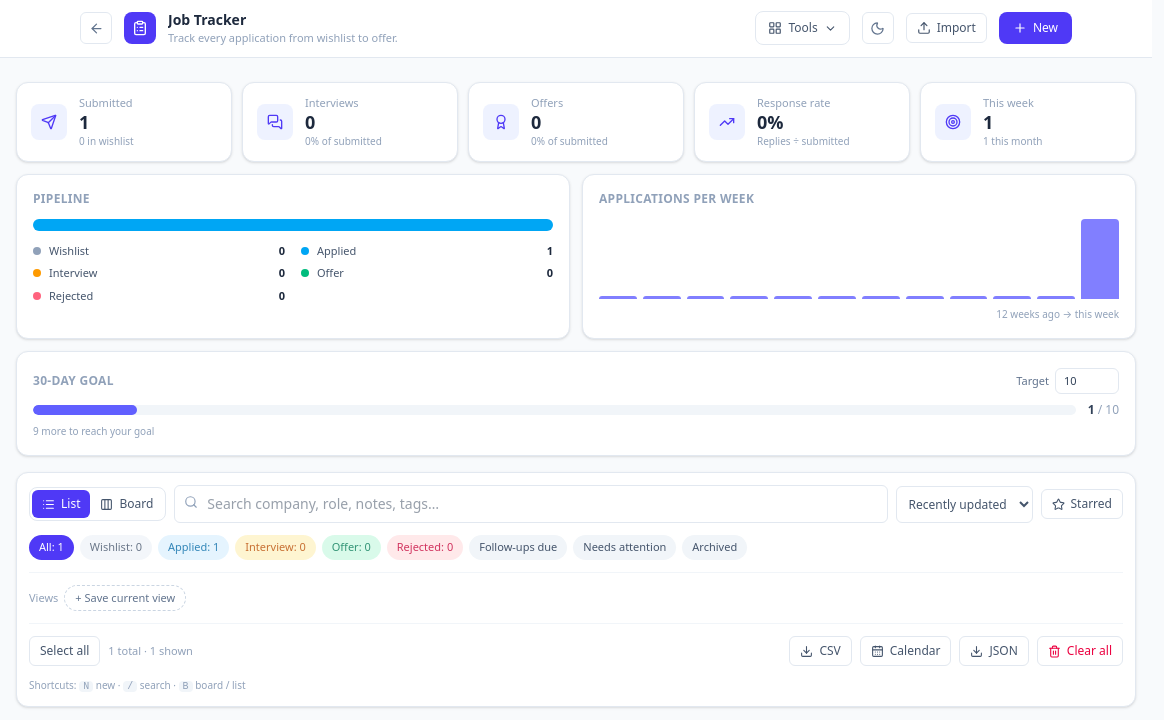
Test case: JobTrackerApp › switches to the board view
This screenshot has width=1164, height=720.
Click the button "board". click: [127, 504]
box: [90,490,163,518]
(page scrolled)
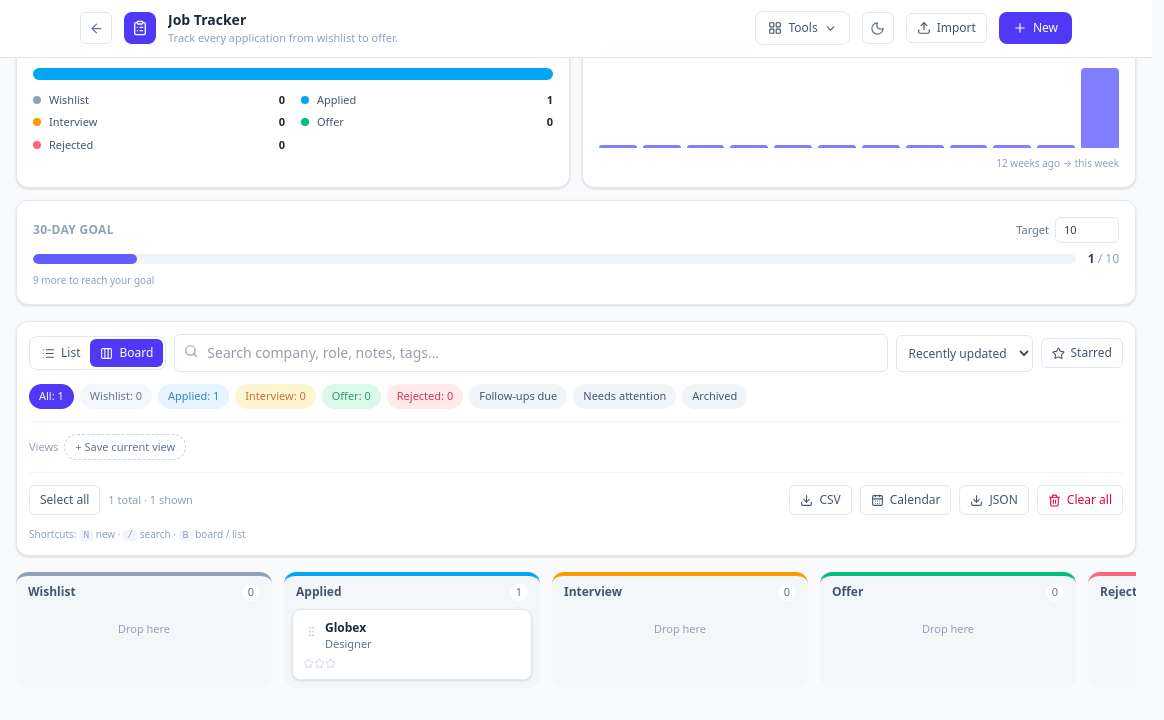
Expected: the button named "Drag Globex" is shown, [303,622,319,642]
Expected: the 1st text "Drop here" is shown, [118,620,170,636]
